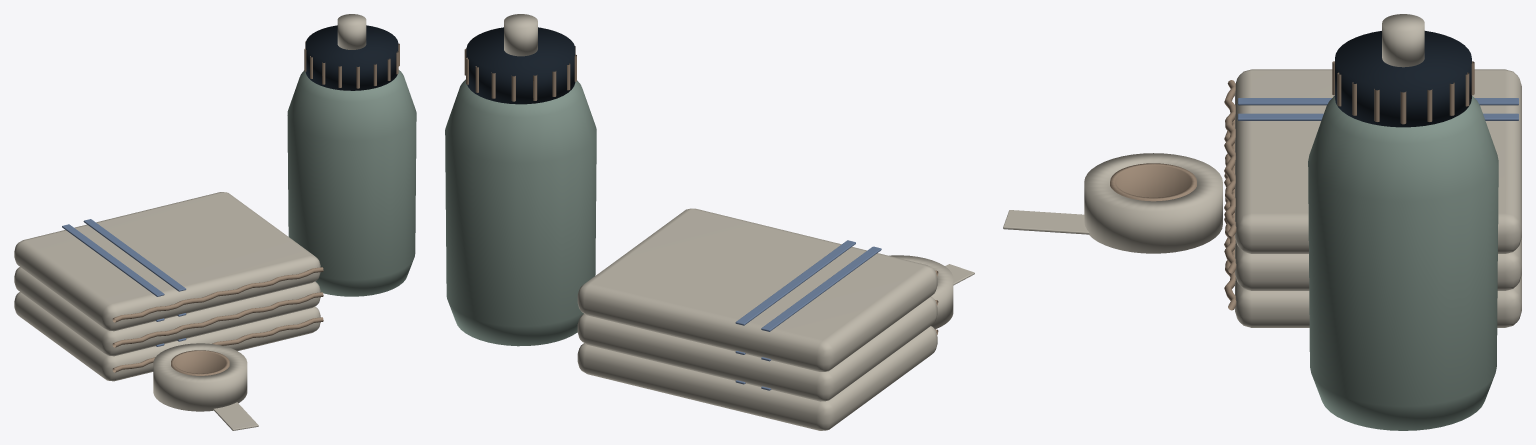
File: room-training-kit.glb
The picture shows the model from 3 angles, left to right: view 1: azimuth 30°, elevation 25°; view 2: azimuth 150°, elevation 25°; view 3: azimuth 270°, elevation 25°; orthographic projection. The views are drawn at different scales.
Visible parts, largest first — view 1: room-training-kit-linen, room-training-kit-sage, room-training-kit-wood, room-training-kit-coal, room-training-kit-fabric; view 2: room-training-kit-linen, room-training-kit-sage, room-training-kit-coal, room-training-kit-fabric, room-training-kit-wood; view 3: room-training-kit-sage, room-training-kit-linen, room-training-kit-coal, room-training-kit-wood, room-training-kit-fabric.
Boxes of the visible parts, x1,y1,x2,y2 form: room-training-kit-linen: [14, 14, 366, 430]; room-training-kit-sage: [287, 70, 416, 296]; room-training-kit-wood: [112, 41, 399, 375]; room-training-kit-coal: [305, 25, 398, 90]; room-training-kit-fabric: [62, 219, 186, 346]; room-training-kit-linen: [504, 14, 974, 430]; room-training-kit-sage: [445, 79, 596, 346]; room-training-kit-coal: [466, 27, 575, 104]; room-training-kit-fabric: [735, 240, 881, 390]; room-training-kit-wood: [464, 46, 938, 334]; room-training-kit-sage: [1308, 96, 1498, 430]; room-training-kit-linen: [1003, 14, 1521, 327]; room-training-kit-coal: [1335, 31, 1471, 127]; room-training-kit-wood: [1110, 61, 1474, 310]; room-training-kit-fabric: [1237, 98, 1518, 120].
Size of the model in its own units: 0.658 by 0.445 by 0.5606.
